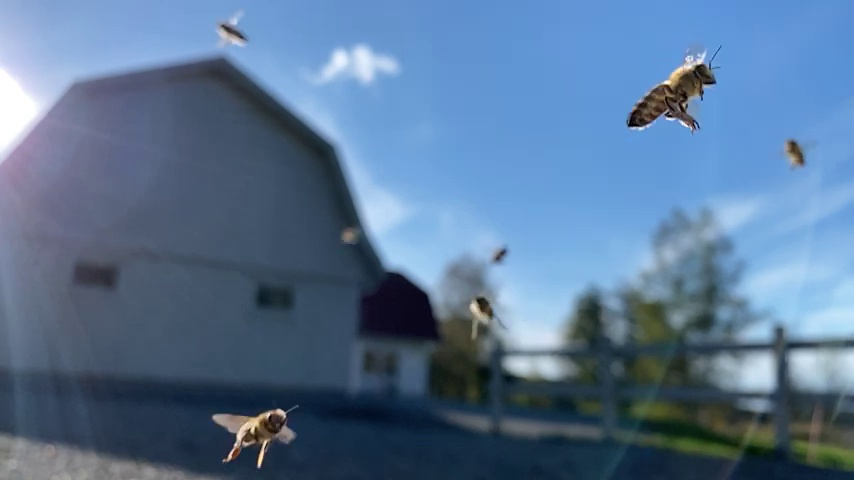insect: (623, 40, 726, 136), (208, 400, 295, 469), (211, 8, 250, 50), (468, 293, 504, 337), (780, 139, 811, 169)
